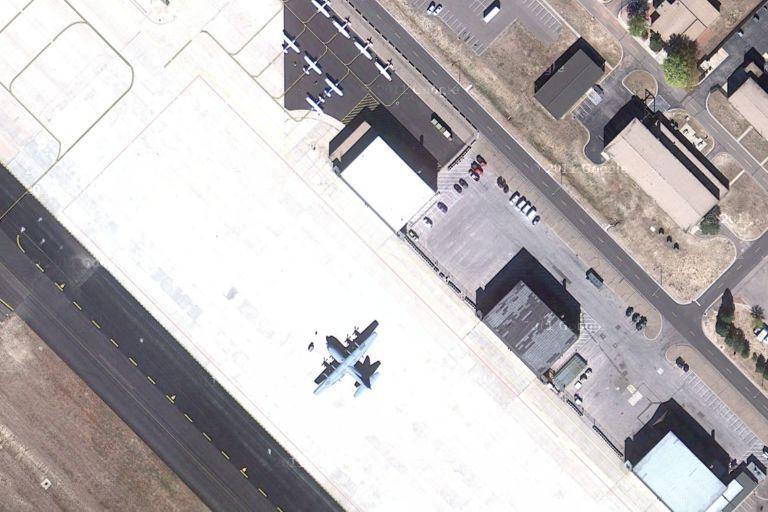C-130: (311, 321, 382, 397)
